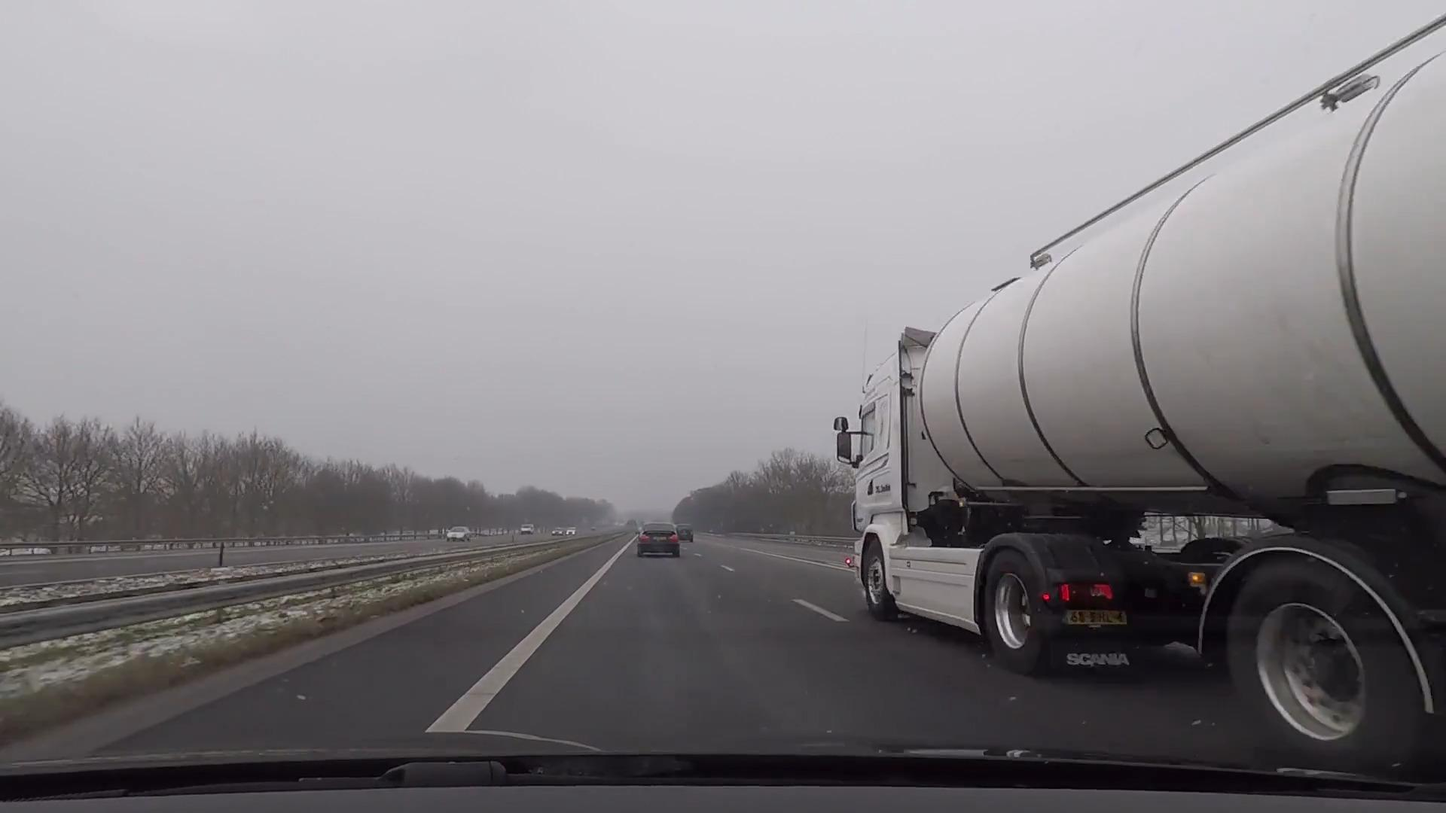Snow: (0, 548, 607, 734)
dry: (34, 530, 1251, 764), (0, 531, 610, 589)
